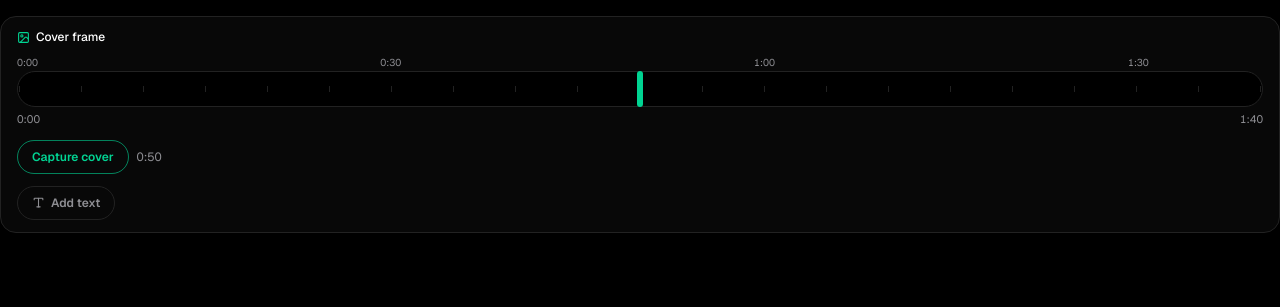
Test: CoverFramePicker › shows a captured-frame confirmation swatch after capturing
Click the button "Capture cover" at (73, 156), box [17,140,129,174]
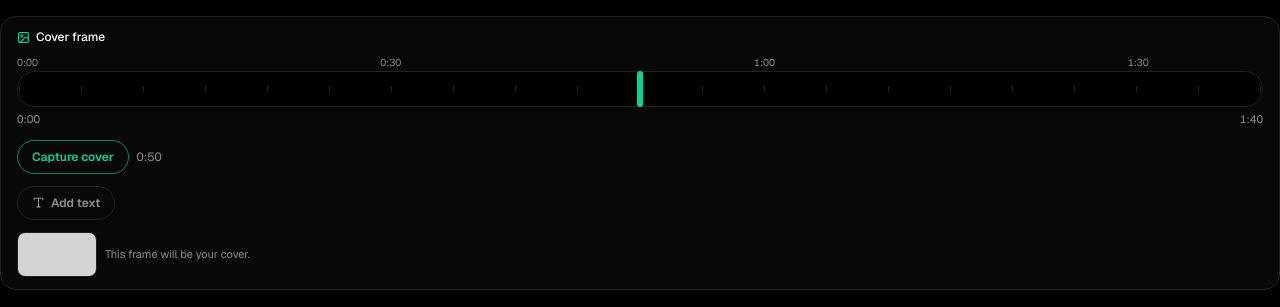
Check: the text "This frame will be your cover." is shown, box [105,246,250,262]
